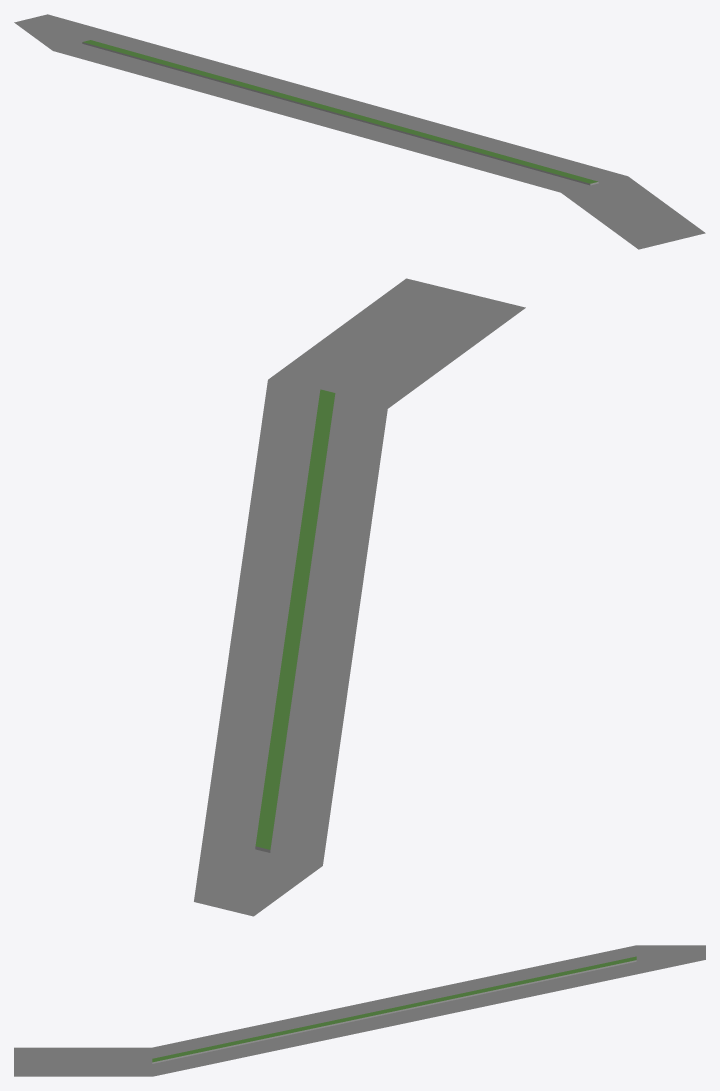
Rendered from legion.glb.
3 renders of one model, top to bottom at view 1: azimuth 30°, elevation 25°; view 2: azimuth 150°, elevation 25°; view 3: azimuth 270°, elevation 25°, orthographic. The views are drawn at different scales.
Parts seen in each view (by area): view 1: Avenue, Island; view 2: Avenue, Island; view 3: Avenue, Island.
Boxes of the visible parts, box(x1,y1,x2,y2) form: Avenue: box(14, 14, 705, 249); Island: box(82, 40, 598, 185); Avenue: box(194, 278, 525, 916); Island: box(255, 389, 335, 852); Avenue: box(14, 945, 705, 1076); Island: box(152, 956, 636, 1063).
Bounding box in the file's own units: 36 × 0.2 × 80.
